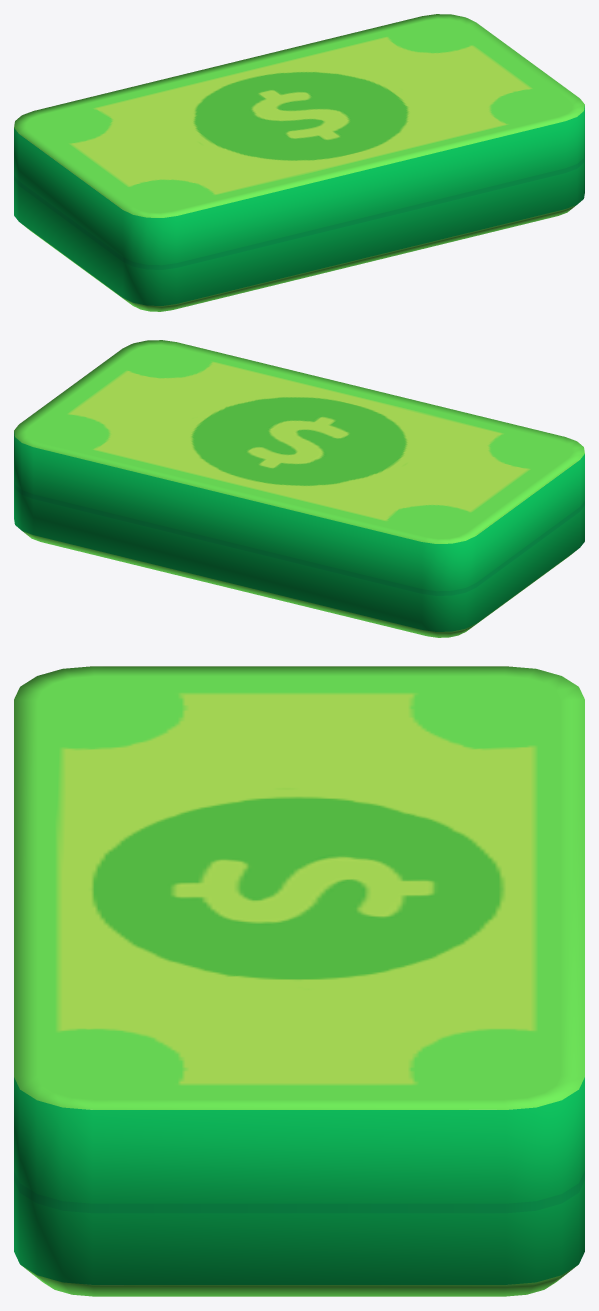
The model's file is moneyIcon (1).fbx.
The picture shows the model from 3 angles, top to bottom: view 1: azimuth 30°, elevation 25°; view 2: azimuth 150°, elevation 25°; view 3: azimuth 270°, elevation 25°; orthographic projection. The views are drawn at different scales.
Visible parts, largest first — view 1: Cube.040; view 2: Cube.040; view 3: Cube.040.
Boxes of the visible parts, left/top/right/bottom form: Cube.040: left=14, top=14, right=584, bottom=311; Cube.040: left=14, top=340, right=584, bottom=637; Cube.040: left=14, top=666, right=584, bottom=1296.
Bounding box in the file's own units: 1.53 × 0.3171 × 0.8333.
Materials: 1 (1 with a texture image).
